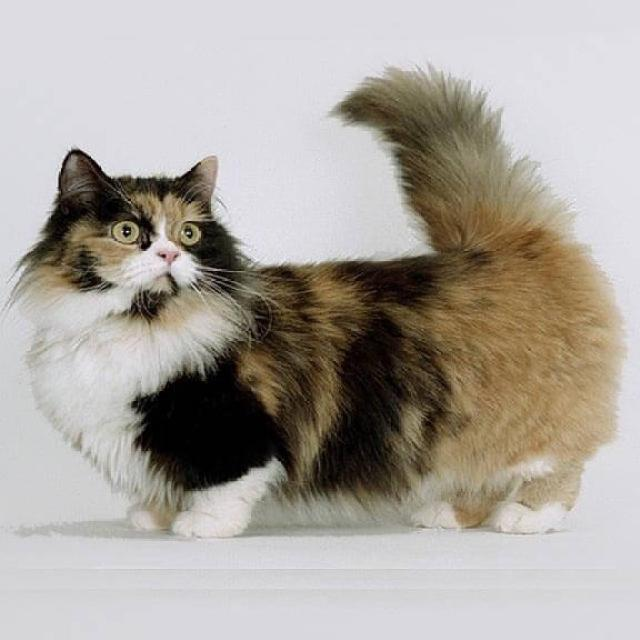Munchkin: (10, 58, 630, 544)
